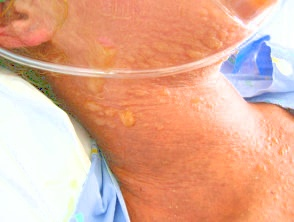SJS-TEN: (41, 0, 277, 160)
